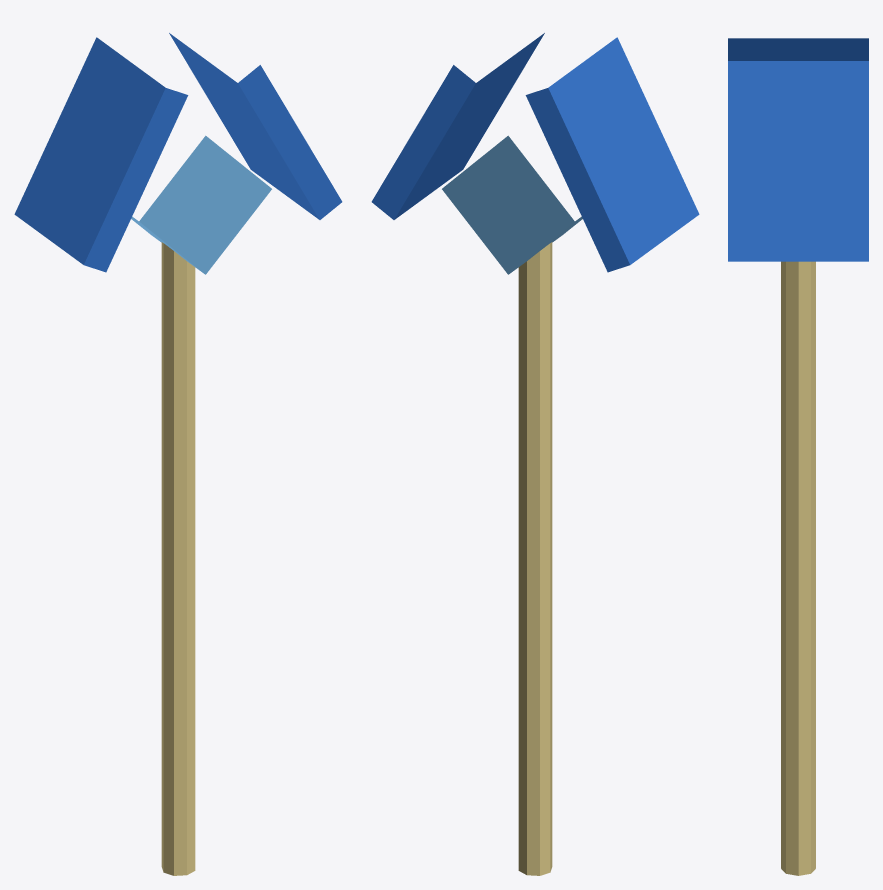
Rendered from skywrath-mage.glb.
The picture shows the model from 3 angles, left to right: view 1: azimuth 30°, elevation 25°; view 2: azimuth 150°, elevation 25°; view 3: azimuth 270°, elevation 25°; orthographic projection.
Parts seen in each view (by area): view 1: skywrath-mage-shaft, skywrath-mage-wing-r, skywrath-mage-wing-l, skywrath-mage-head-gem; view 2: skywrath-mage-shaft, skywrath-mage-wing-r, skywrath-mage-wing-l, skywrath-mage-head-gem; view 3: skywrath-mage-wing-l, skywrath-mage-shaft, skywrath-mage-wing-r.
Part boxes in pixels (x1,y1,x2,y2): skywrath-mage-shaft: [161, 242, 195, 875]; skywrath-mage-wing-r: [14, 37, 188, 272]; skywrath-mage-wing-l: [169, 33, 342, 219]; skywrath-mage-head-gem: [131, 135, 271, 274]; skywrath-mage-shaft: [518, 242, 552, 875]; skywrath-mage-wing-r: [525, 37, 699, 272]; skywrath-mage-wing-l: [371, 33, 544, 219]; skywrath-mage-head-gem: [442, 135, 582, 274]; skywrath-mage-wing-l: [728, 61, 868, 261]; skywrath-mage-shaft: [781, 261, 815, 875]; skywrath-mage-wing-r: [728, 38, 868, 60].
Size of the model in its own units: 0.6044 by 1.82 by 0.28.
